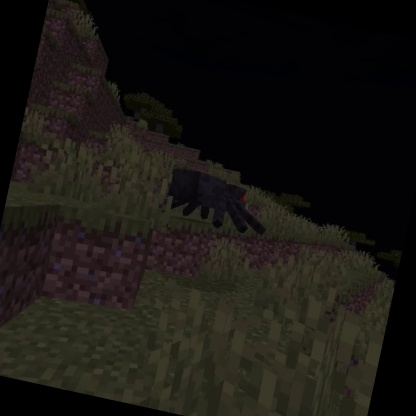spider: (158, 162, 278, 243)
